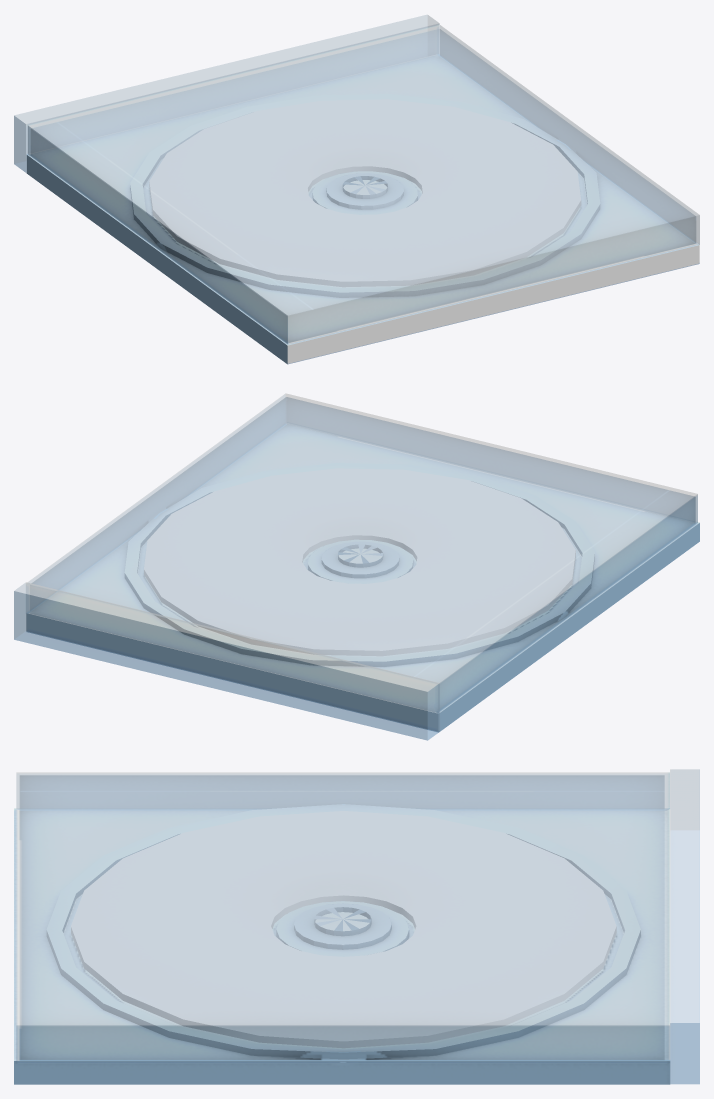
File: Trevor_CD .fbx
The picture shows the model from 3 angles, top to bottom: view 1: azimuth 30°, elevation 25°; view 2: azimuth 150°, elevation 25°; view 3: azimuth 270°, elevation 25°; orthographic projection. The views are drawn at different scales.
Parts seen in each view (by area): view 1: pPipe3; view 2: pPipe3; view 3: pPipe3.
Boxes of the visible parts, <box> form: pPipe3: <box>14,14,699,364</box>; pPipe3: <box>14,393,699,740</box>; pPipe3: <box>14,769,699,1084</box>.
Bounding box in the file's own units: 0.1858 × 0.0213 × 0.2121.
Materials: 3 (3 with a texture image).
